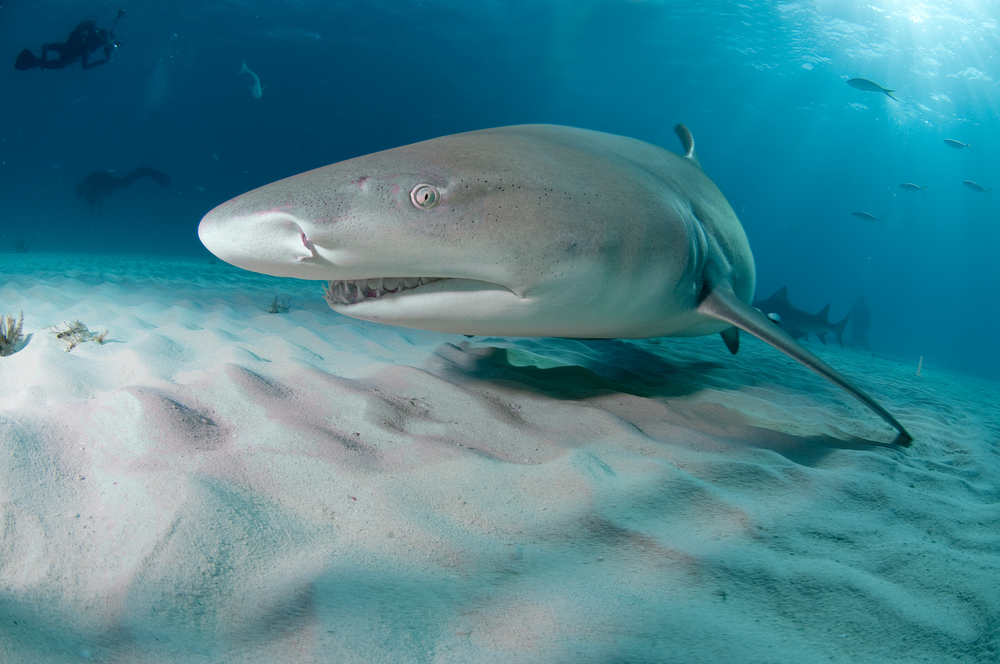shark: (182, 111, 936, 459)
